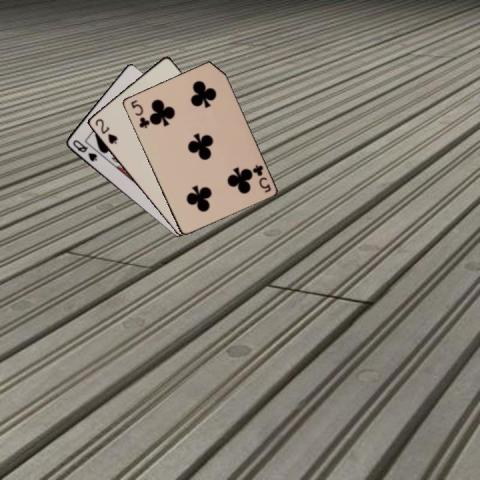2s: (92, 115, 119, 146)
5c: (249, 161, 272, 194), (127, 97, 150, 129)
Qs: (69, 136, 99, 162)
